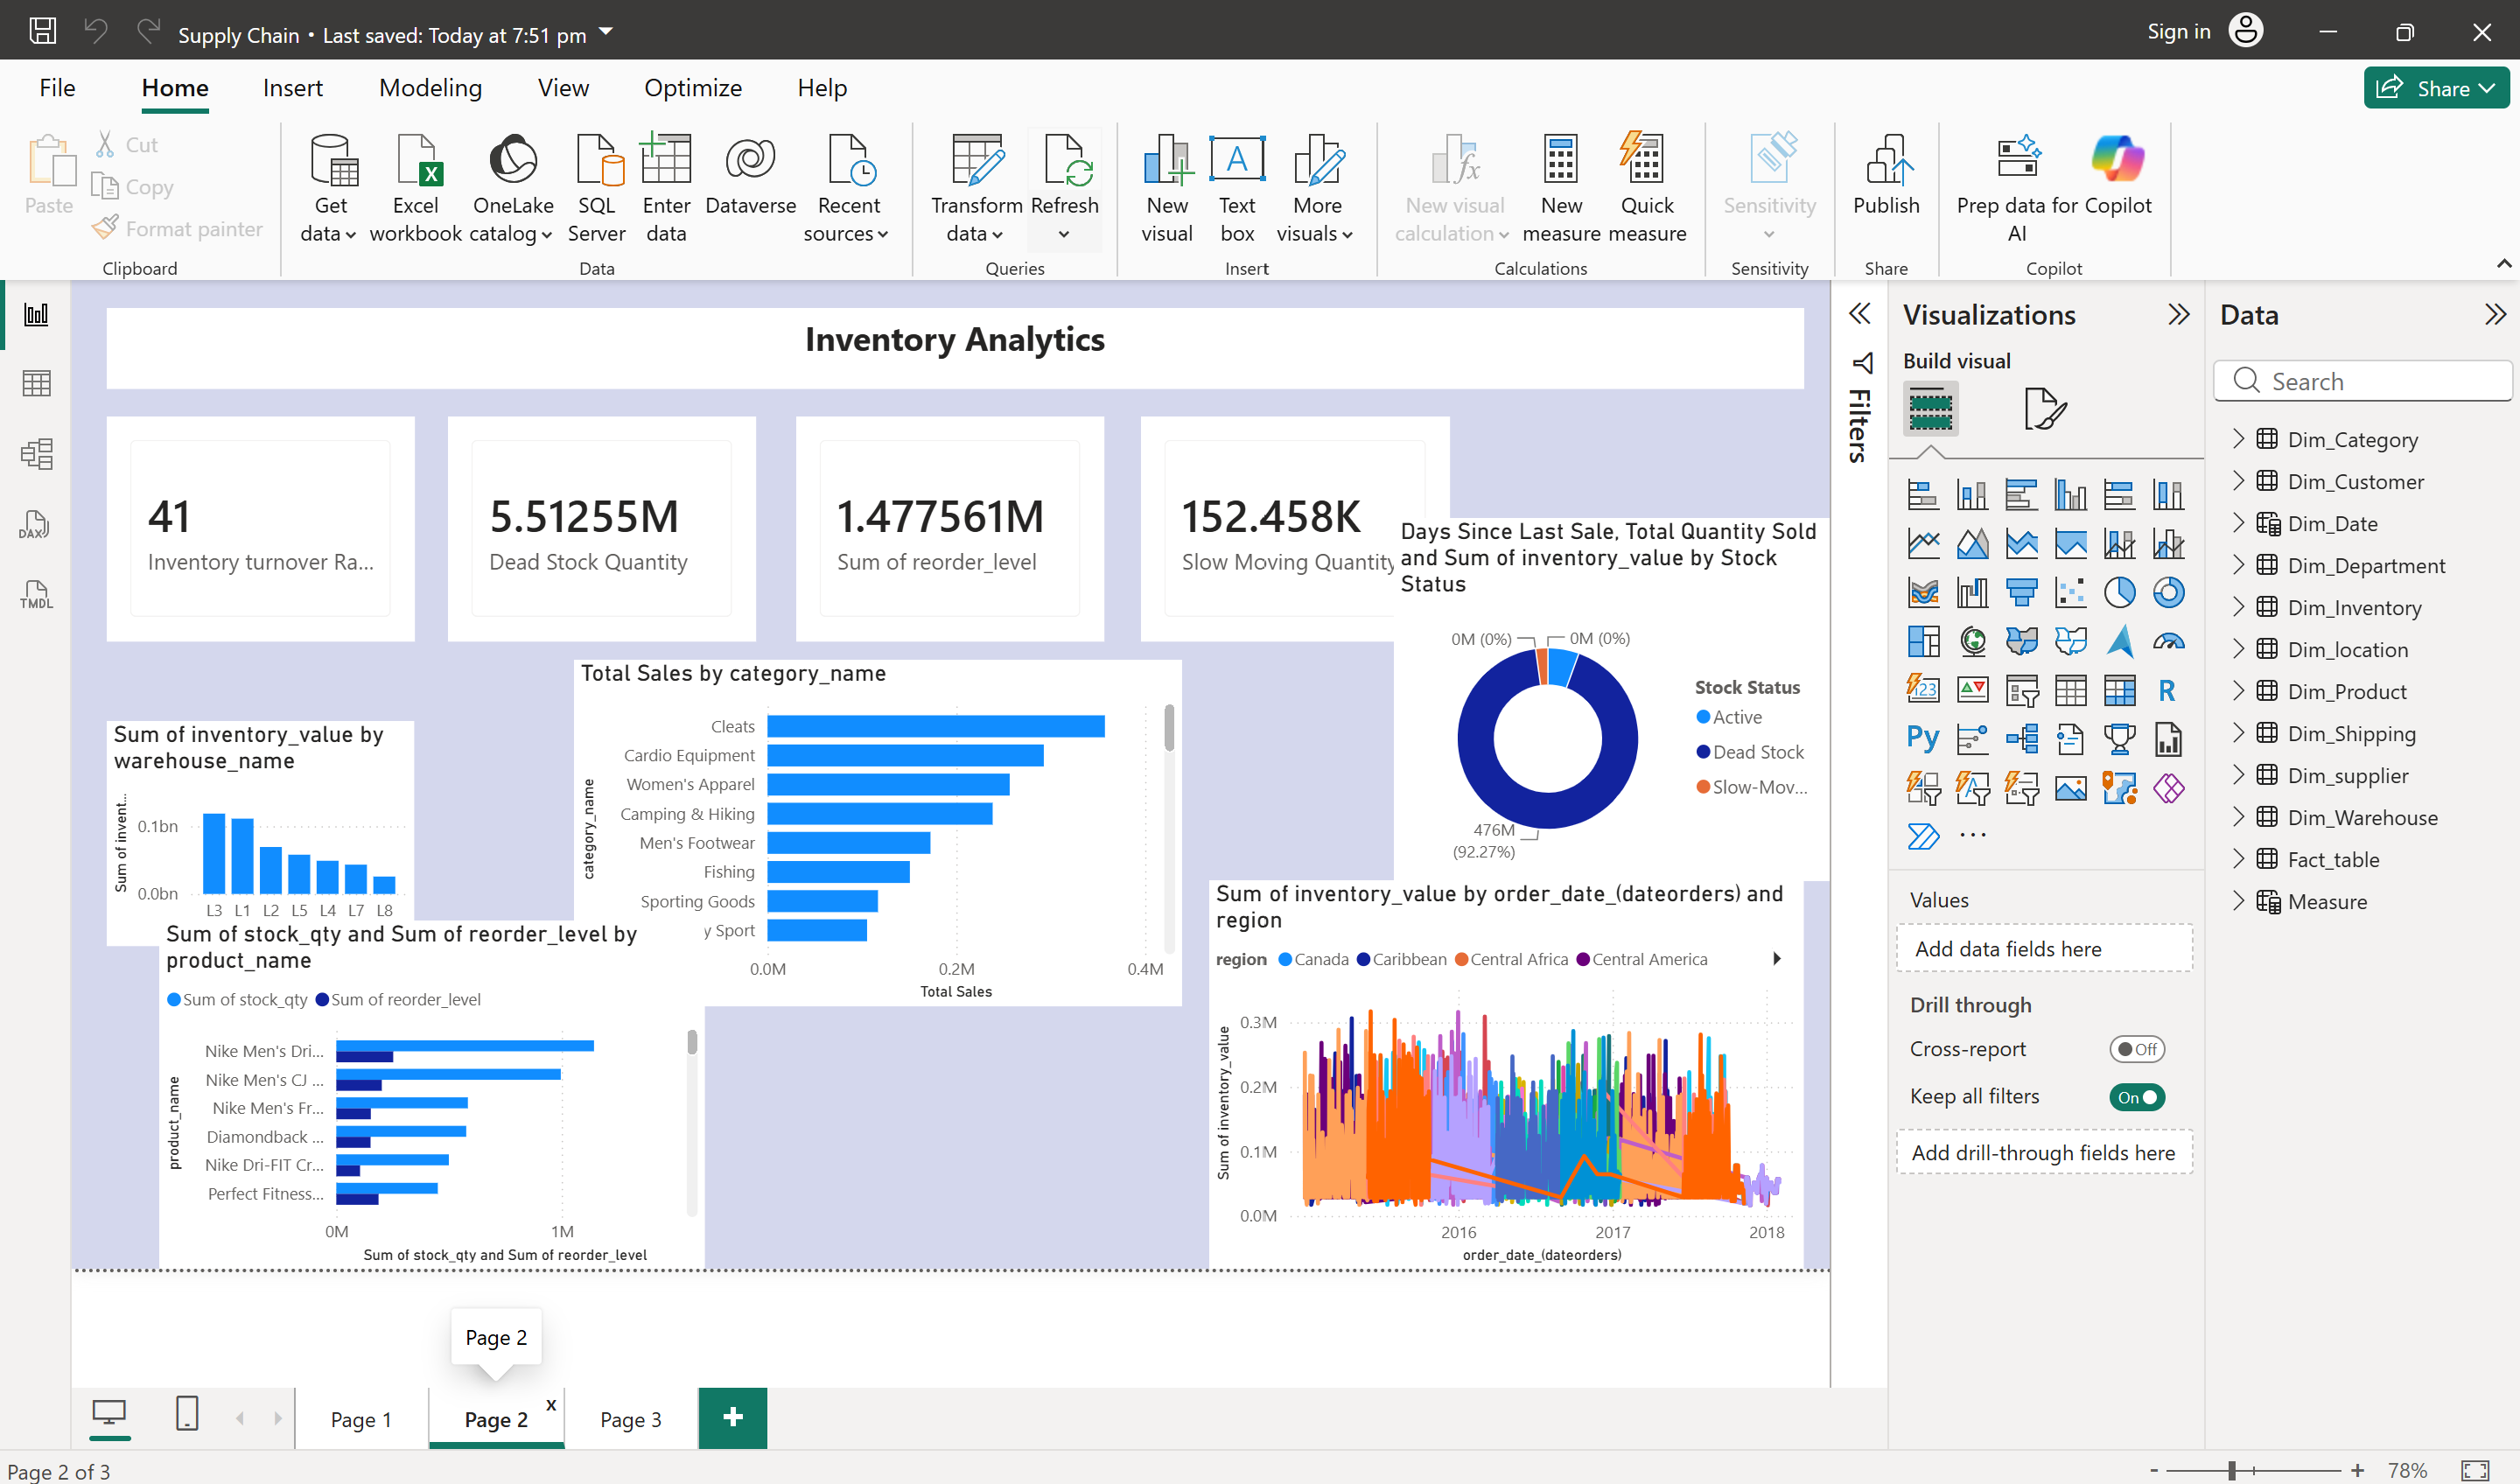

The page's visual inventory and layout, read from the dashboard file:
{"tool":"powerbi","page":{"name":"Page 2","canvas":[1280,720],"ordinal":1},"visuals":[{"type":"cardVisual","fields":{"Data":["Measure.Inventory turnover Ratio (units)"]},"box":[25.1,99,224.5,130],"z":0},{"type":"cardVisual","fields":{"Data":["Measure.Dead Stock Quantity"]},"box":[25.1,273.2,224.5,115.2],"z":1000},{"type":"cardVisual","fields":{"Data":["Sum(Fact_table.reorder_level)"]},"box":[13.3,406.2,211.2,127],"z":2000},{"type":"cardVisual","fields":{"Data":["Measure.Slow Moving Quantity"]},"box":[13.3,579,199.4,121.1],"z":3000},{"type":"textbox","box":[25.1,20.7,1236.2,59.1],"z":4000},{"type":"columnChart","fields":{"Y":["Sum(Fact_table.inventory_value)"],"Category":["Dim_Warehouse.warehouse_name"]},"box":[304.2,99,413.5,177.2],"z":5000},{"type":"clusteredBarChart","fields":{"Y":["Measure.Total Sales"],"Category":["Fact_table.category_name Hierarchy.category_name","Fact_table.category_name Hierarchy.product_name"]},"box":[304.2,292.4,435.7,215.6],"z":6000},{"type":"donutChart","fields":{"Y":["Measure.Days Since Last Sale1","Measure.Total Quantity Sold","Sum(Fact_table.inventory_value)"],"Category":["Fact_table.Stock Status"]},"box":[850.7,96,317.5,264.4],"z":7000},{"type":"lineChart","fields":{"Category":["Fact_table.order_date_(dateorders)"],"Y":["Sum(Fact_table.inventory_value)"],"Series":["Dim_Warehouse.region"]},"box":[828.6,437.2,432.7,283.6],"z":8000},{"type":"clusteredBarChart","fields":{"Category":["Dim_Product.product_name"],"Y":["Sum(Fact_table.stock_qty)","Sum(Fact_table.reorder_level)"]},"box":[285,533.2,478.5,187.6],"z":9000}]}

Visuals, with their boxes on the page's 1280x720 design canvas (x1, y1, x2, y2). These are canvas units, not pixel positions in the 2520x1484 screenshot, which may show the page scaled, cropped or inside an application window:
cardVisual - Measure.Inventory turnover Ratio (units): 25, 99, 250, 229
cardVisual - Measure.Dead Stock Quantity: 25, 273, 250, 388
cardVisual - Sum(Fact_table.reorder_level): 13, 406, 224, 533
cardVisual - Measure.Slow Moving Quantity: 13, 579, 213, 700
textbox: 25, 21, 1261, 80
columnChart - Sum(Fact_table.inventory_value) x Dim_Warehouse.warehouse_name: 304, 99, 718, 276
clusteredBarChart - Measure.Total Sales x Fact_table.category_name Hierarchy.category_name: 304, 292, 740, 508
donutChart - Measure.Days Since Last Sale1 x Measure.Total Quantity Sold: 851, 96, 1168, 360
lineChart - Fact_table.order_date_(dateorders) x Sum(Fact_table.inventory_value): 829, 437, 1261, 721
clusteredBarChart - Dim_Product.product_name x Sum(Fact_table.stock_qty): 285, 533, 764, 721
